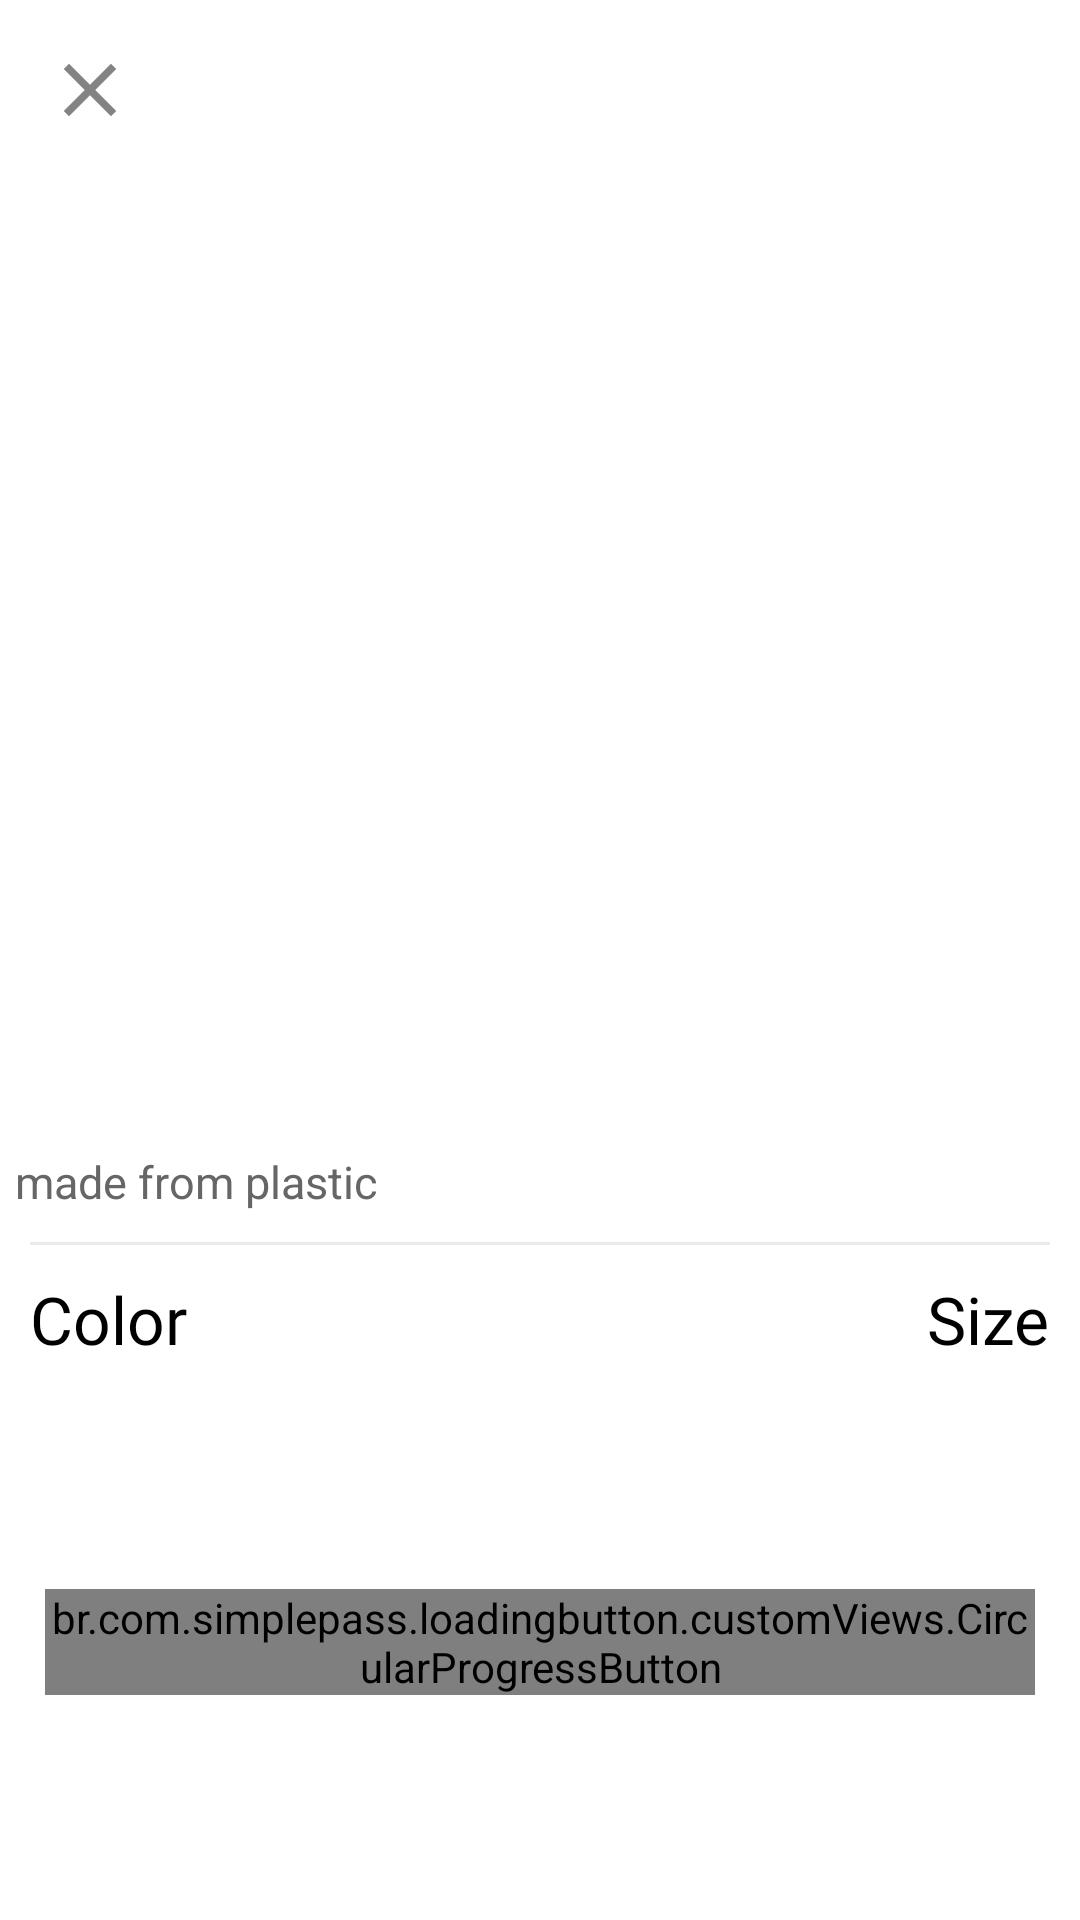

Locate icon controls on the screen. Image size 1080x1920, boxes as (x1, y1, x2, y2).
close: (64, 64, 116, 116)
